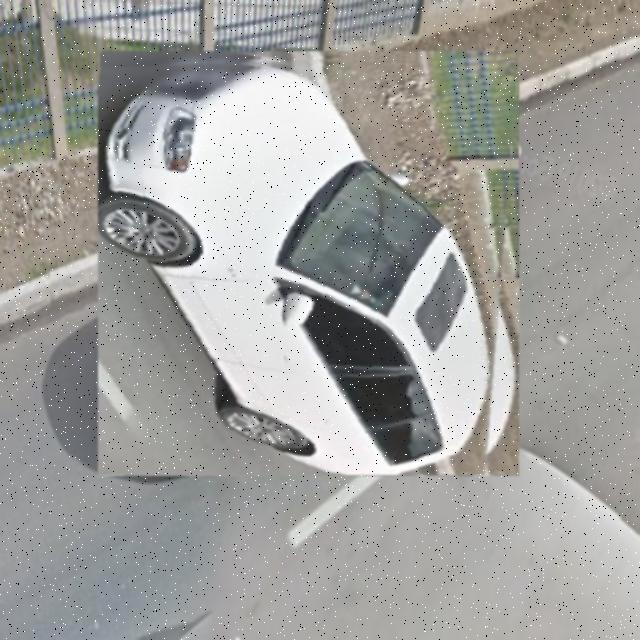car: (99, 53, 521, 476)
